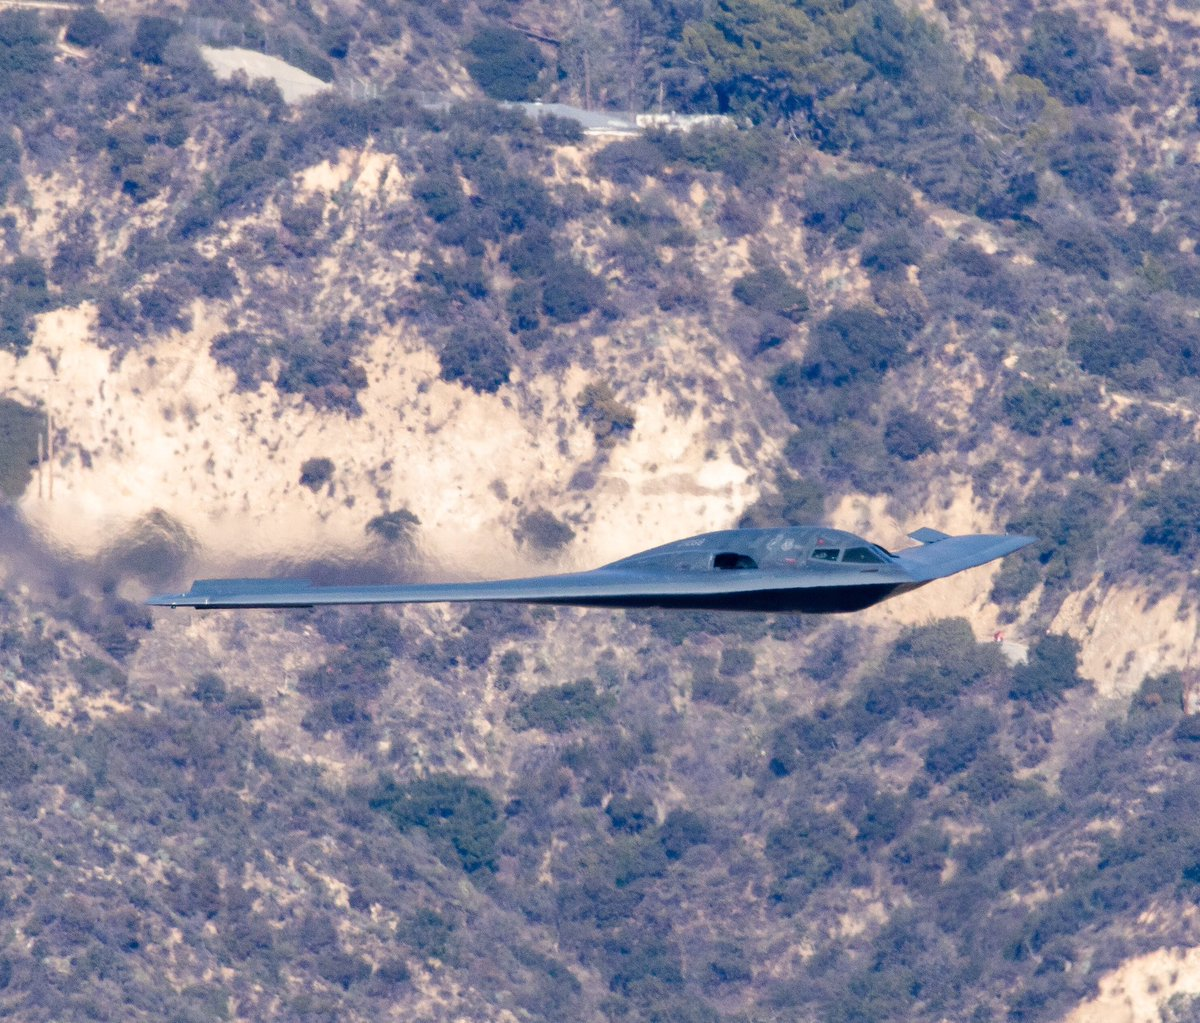B2: (143, 526, 1041, 614)
